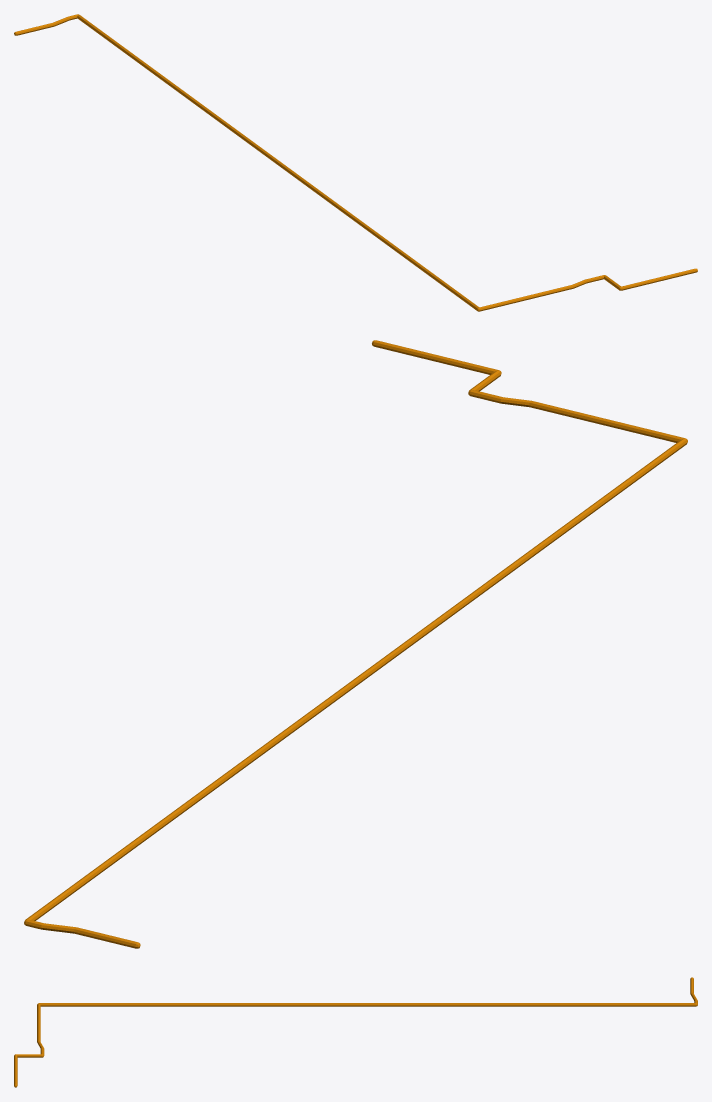
The picture shows the model from 3 angles, top to bottom: view 1: azimuth 30°, elevation 25°; view 2: azimuth 150°, elevation 25°; view 3: azimuth 270°, elevation 25°; orthographic projection. The views are drawn at different scales.
Bounding box in the file's own units: 1445 × 20 × 3850.
